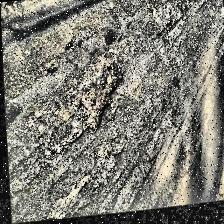pothole: (74, 57, 122, 134)
